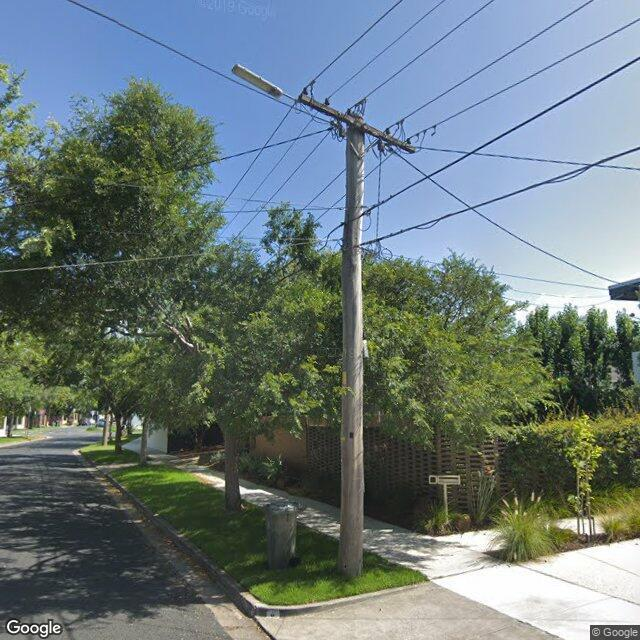crossarm: (296, 75, 438, 157)
streetlight: (230, 64, 300, 102)
timber-pole: (337, 115, 366, 577)
